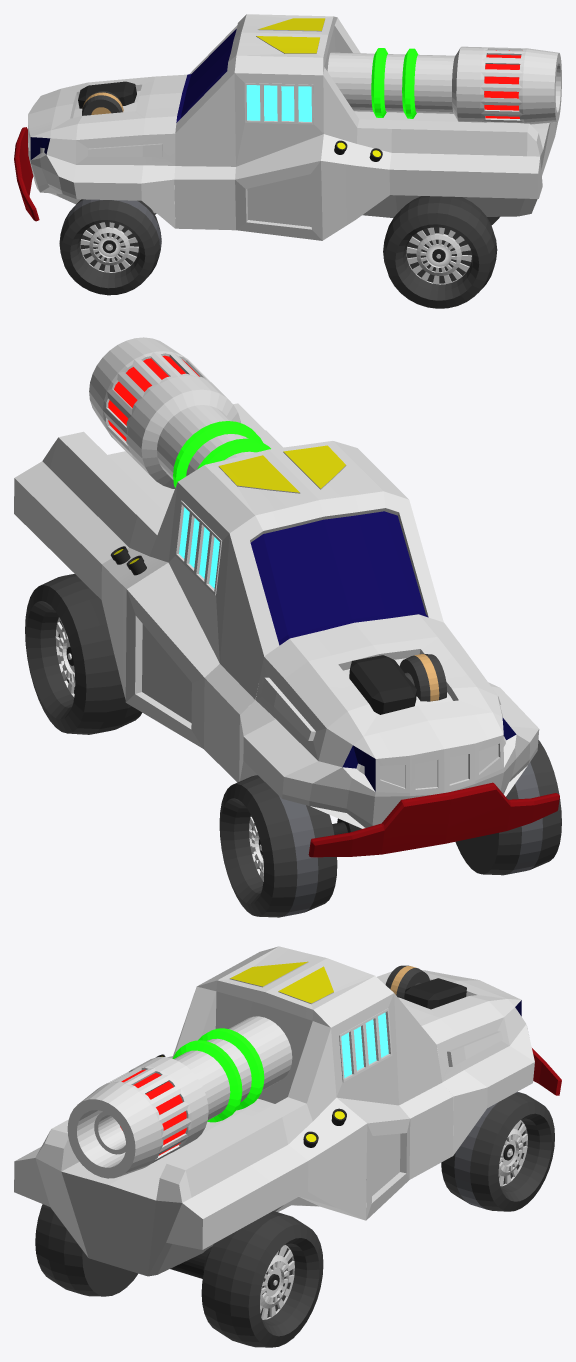
The model's file is car6_LOD0.fbx.
The picture shows the model from 3 angles, top to bottom: view 1: azimuth 30°, elevation 25°; view 2: azimuth 150°, elevation 25°; view 3: azimuth 270°, elevation 25°; orthographic projection. The views are drawn at different scales.
Parts seen in each view (by area): view 1: car6; view 2: car6; view 3: car6.
Boxes of the visible parts, bbox=[...] form: car6: bbox=[14, 14, 561, 308]; car6: bbox=[14, 337, 561, 917]; car6: bbox=[14, 946, 561, 1347].
Size of the model in its own units: 312 by 149 by 270.
